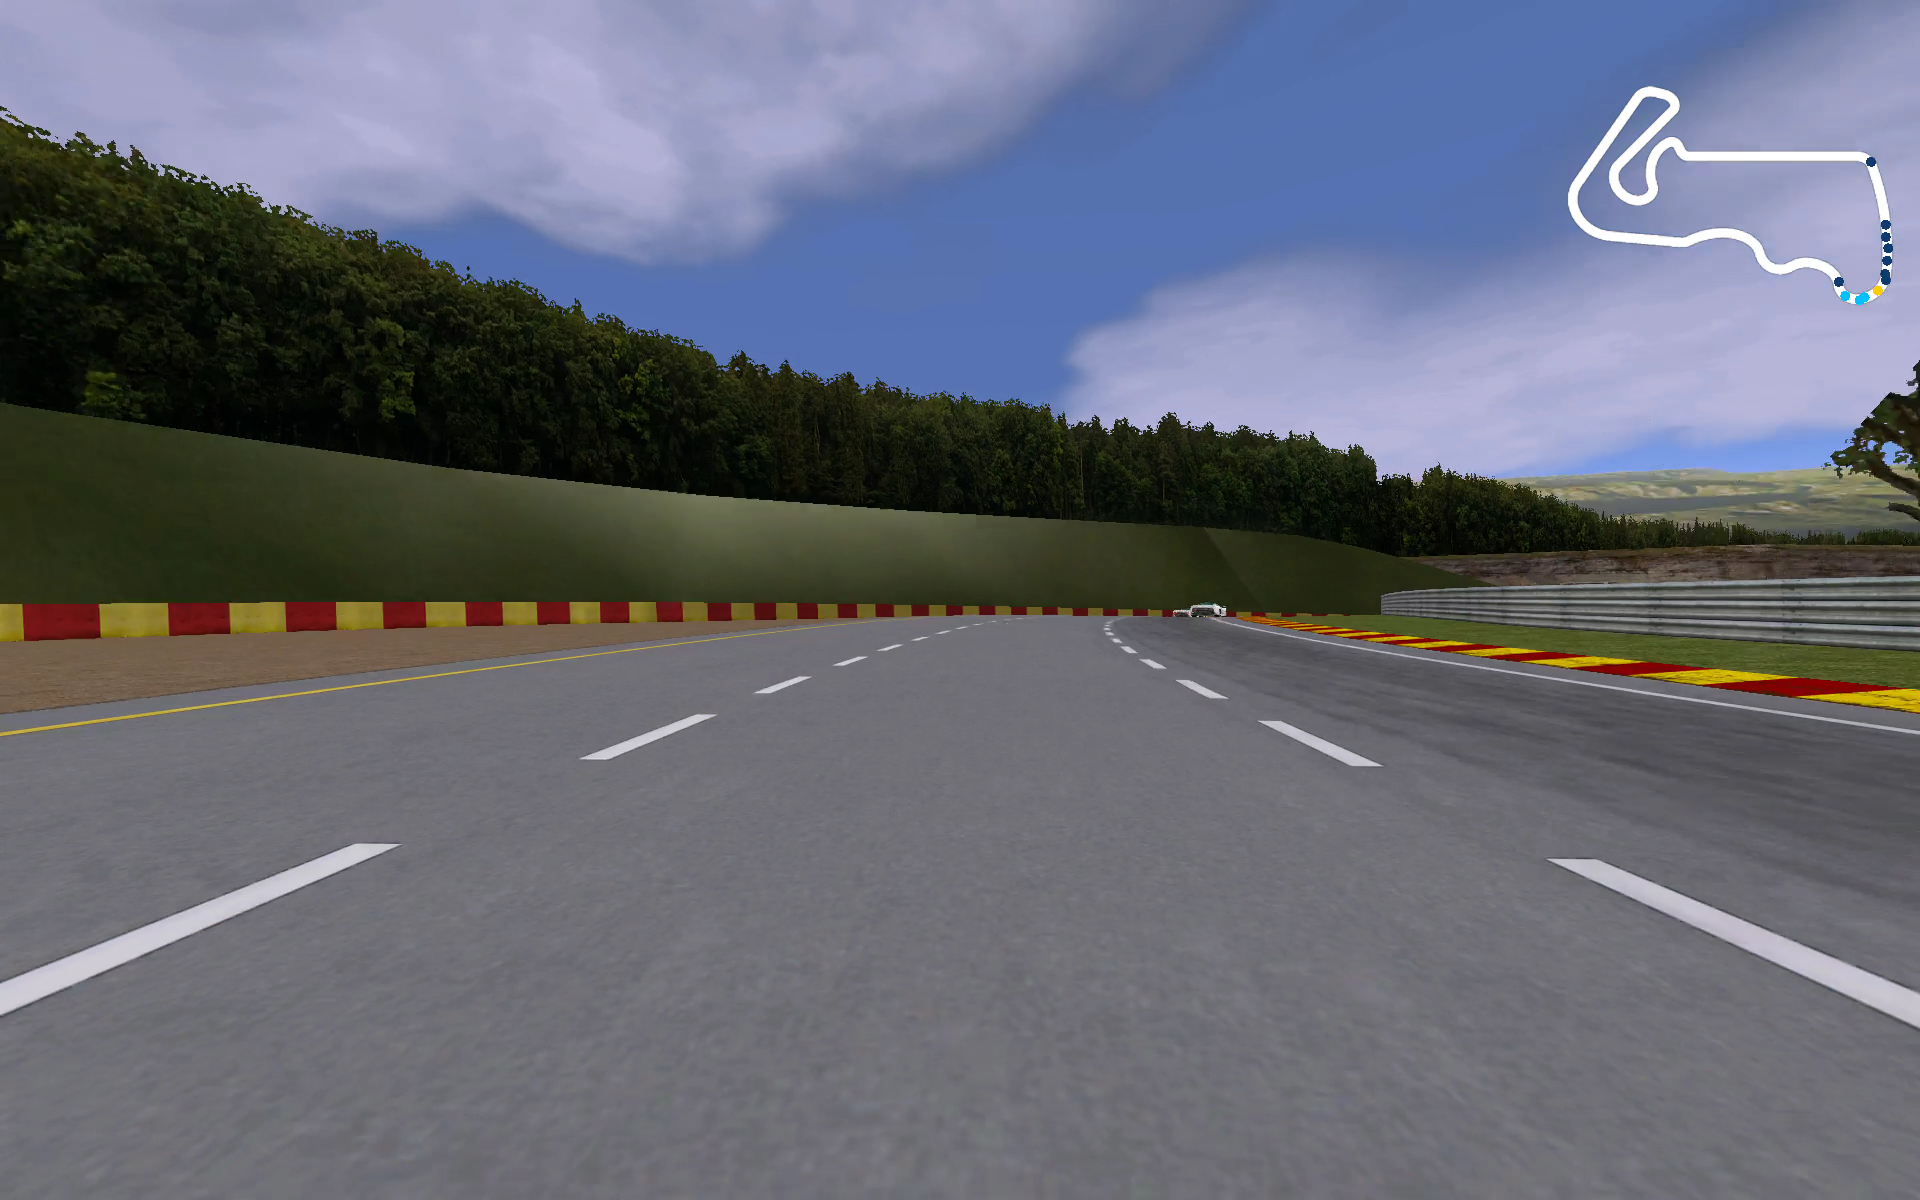car: (1186, 599, 1232, 622), (1168, 604, 1183, 619)
